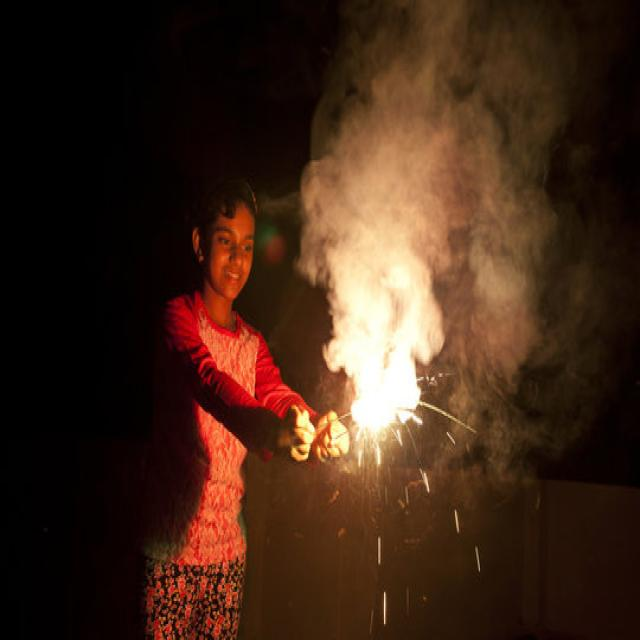fire: (336, 267, 420, 432)
